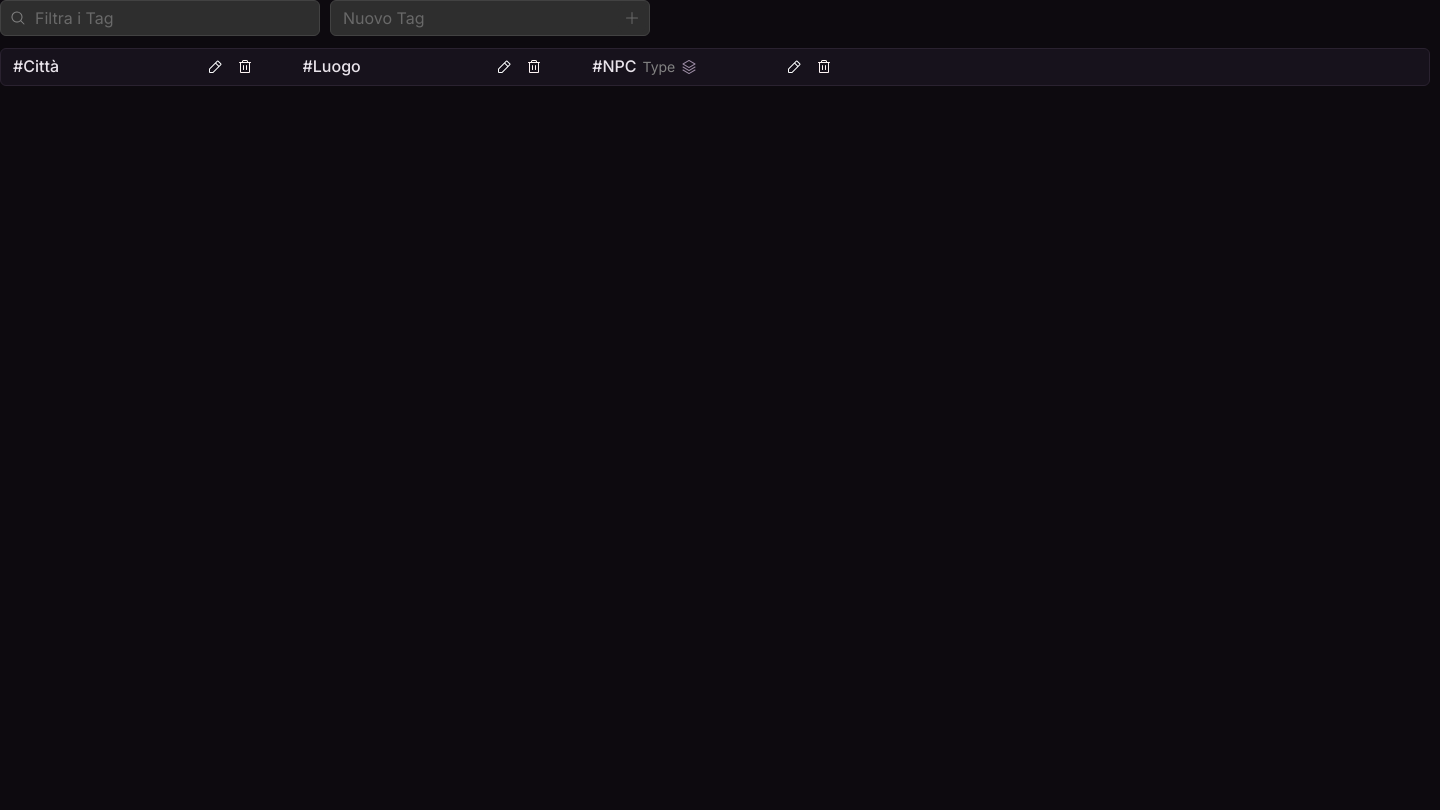
Scenario: AllTagsList › deleting a Tag › asks for confirmation, and cancelling deletes nothing
Click the button named "Elimina il Tag NPC": (824, 67) [810,53,838,81]
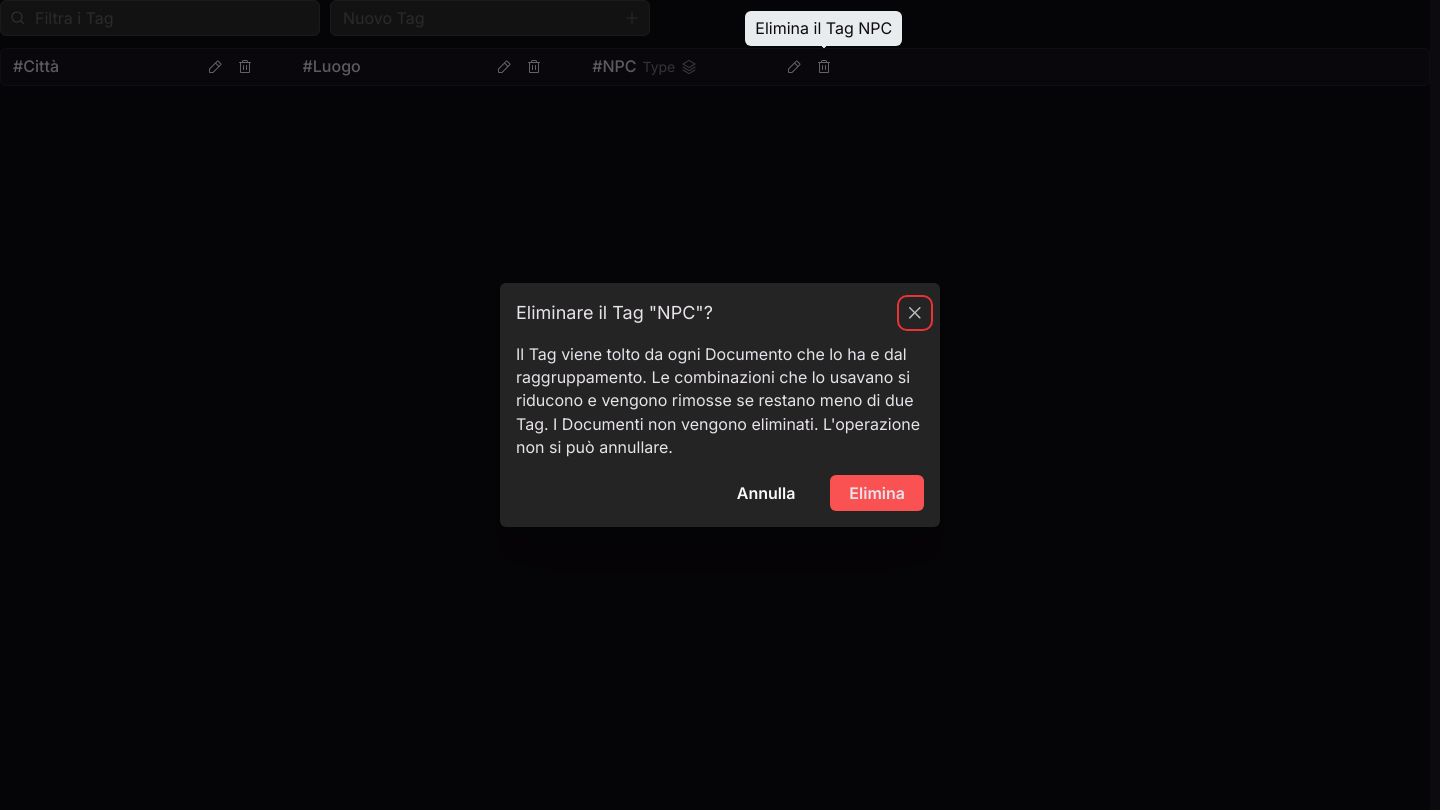
Expected: the heading "Eliminare il Tag \"NPC\"?" is shown, [516,304,713,322]
Click the button "Annulla": (766, 493) [718,475,814,511]
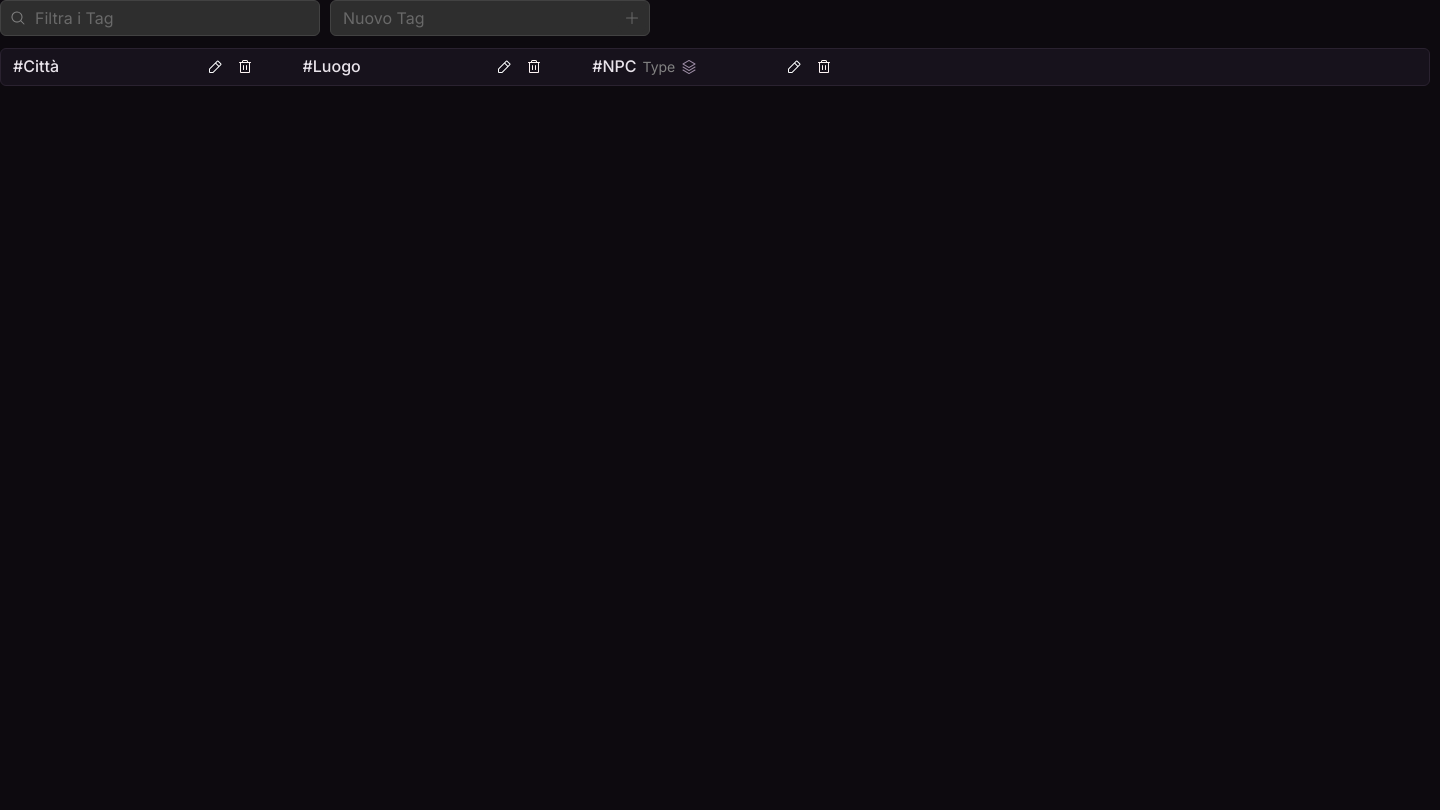
Expected: the heading "Eliminare il Tag \"NPC\"?" is gone
